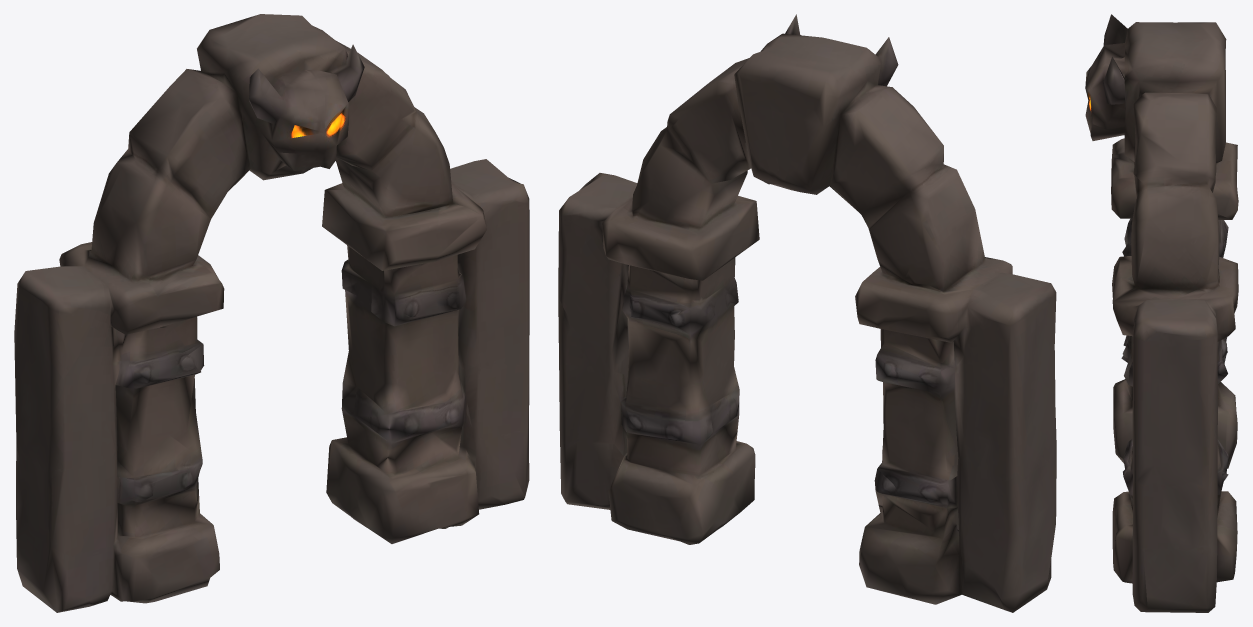
The model's file is fg_arch-VOAdwzsc.glb.
3 renders of one model, left to right at view 1: azimuth 30°, elevation 25°; view 2: azimuth 150°, elevation 25°; view 3: azimuth 270°, elevation 25°, orthographic. The views are drawn at different scales.
Parts seen in each view (by area): view 1: tripo_node_a93b9659-402d-4b74-8752-ae83b40f2712; view 2: tripo_node_a93b9659-402d-4b74-8752-ae83b40f2712; view 3: tripo_node_a93b9659-402d-4b74-8752-ae83b40f2712.
Part boxes in pixels (left/top/right/bottom): tripo_node_a93b9659-402d-4b74-8752-ae83b40f2712: left=14, top=14, right=529, bottom=612; tripo_node_a93b9659-402d-4b74-8752-ae83b40f2712: left=558, top=14, right=1056, bottom=612; tripo_node_a93b9659-402d-4b74-8752-ae83b40f2712: left=1085, top=14, right=1238, bottom=612.
Size of the model in its own units: 4.3 by 4.41 by 1.29.
1 material, 1 textured.
